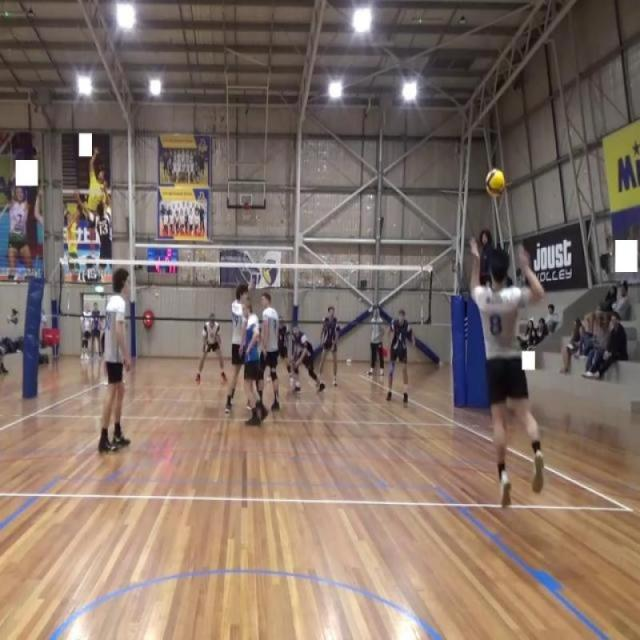volleyball: (484, 167, 507, 201)
